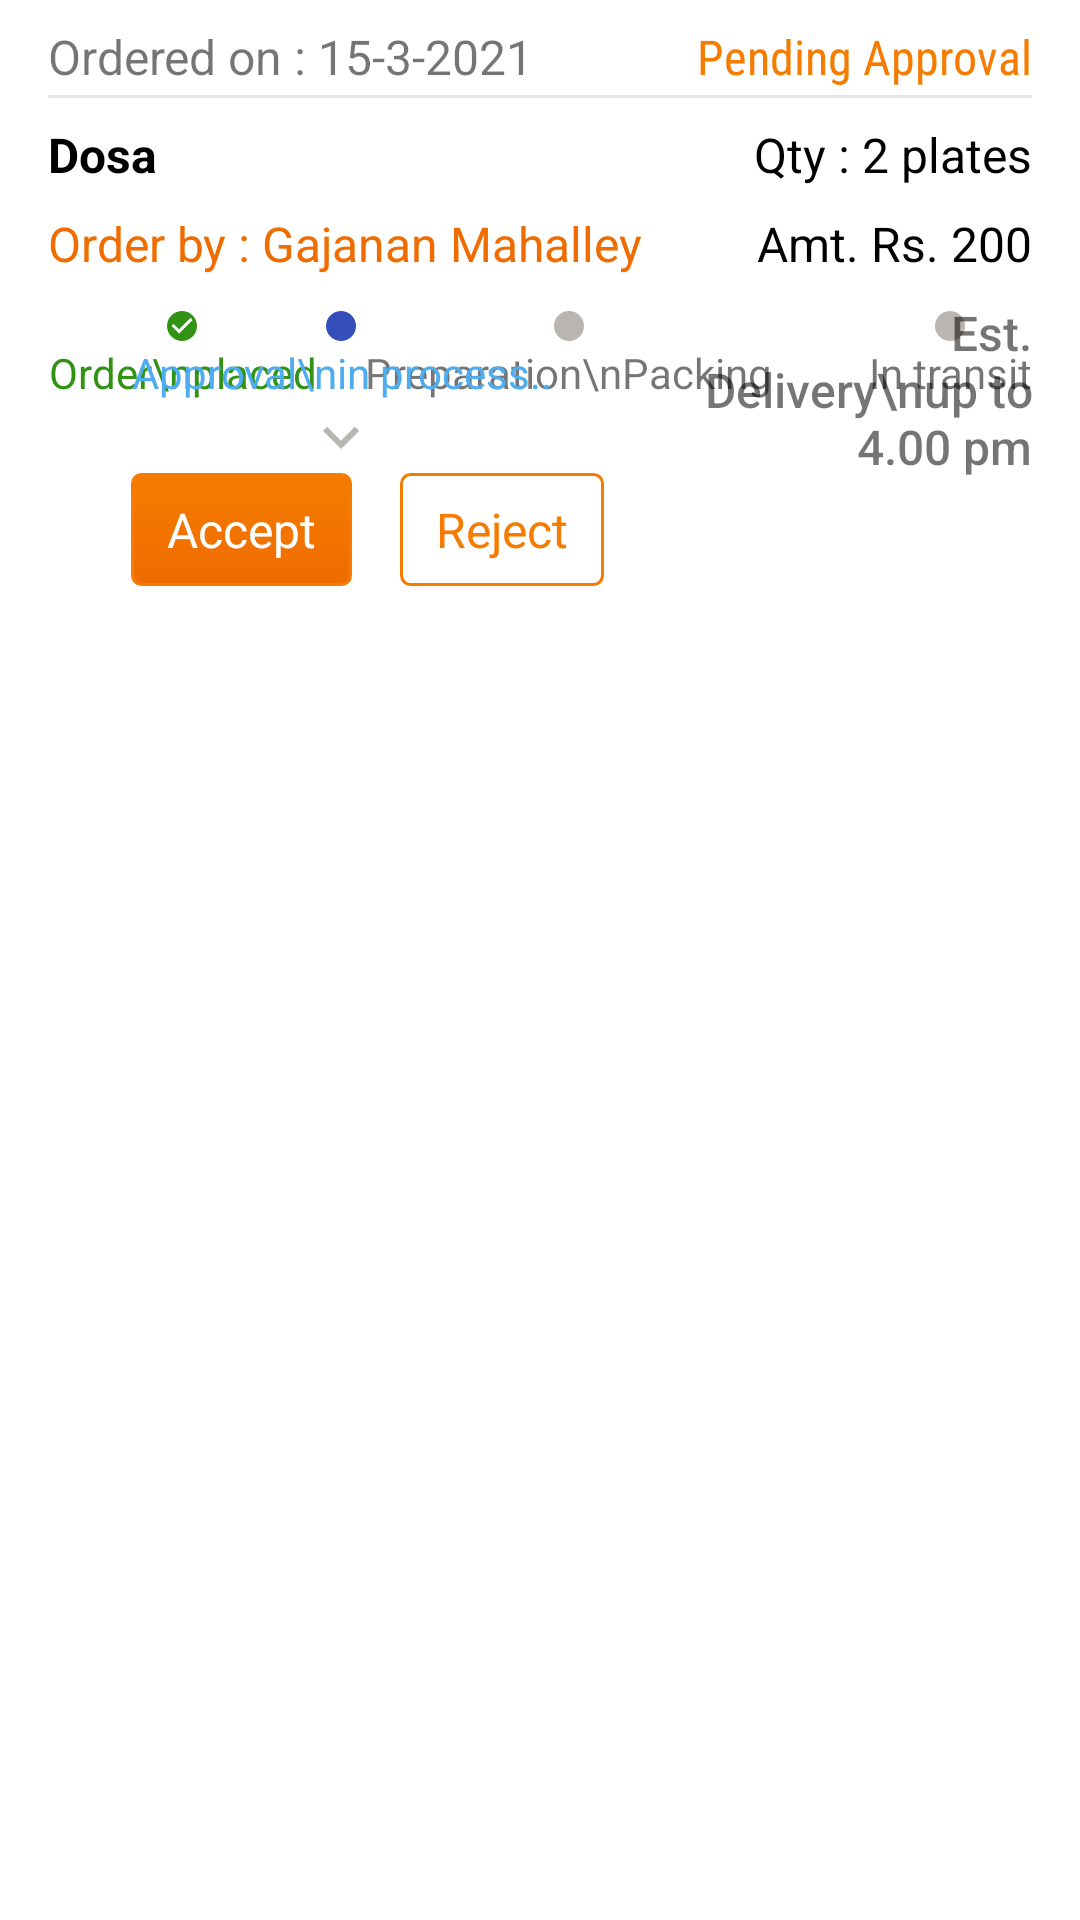

Screen size 1080px x 1920px. Icon name, then its center in pixels as point (x, y):
check circle: point (182, 326)
